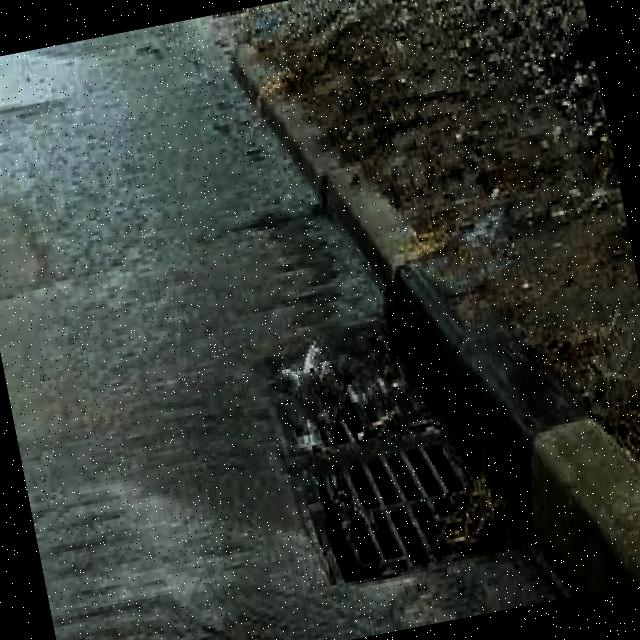curb: (378, 231, 640, 613), (216, 20, 421, 293)
